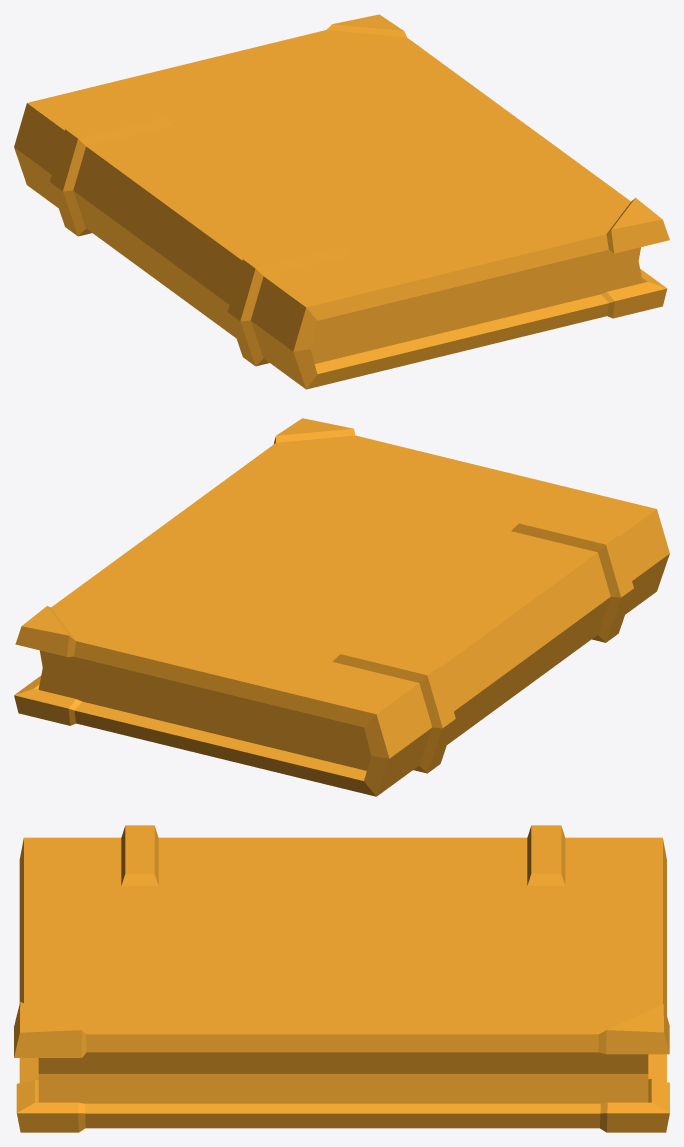
The model's file is SM_Book_Alchemy.fbx.
3 views of the same model, one above another, from view 1: azimuth 30°, elevation 25°; view 2: azimuth 150°, elevation 25°; view 3: azimuth 270°, elevation 25° (orthographic). The views are drawn at different scales.
Visible parts, largest first — view 1: book-alchemy; view 2: book-alchemy; view 3: book-alchemy.
Part boxes in pixels (<box>): book-alchemy: <box>14,14,669,389</box>; book-alchemy: <box>14,418,669,796</box>; book-alchemy: <box>14,825,669,1132</box>.
Bounding box in the file's own units: 0.415 × 0.1019 × 0.541.
